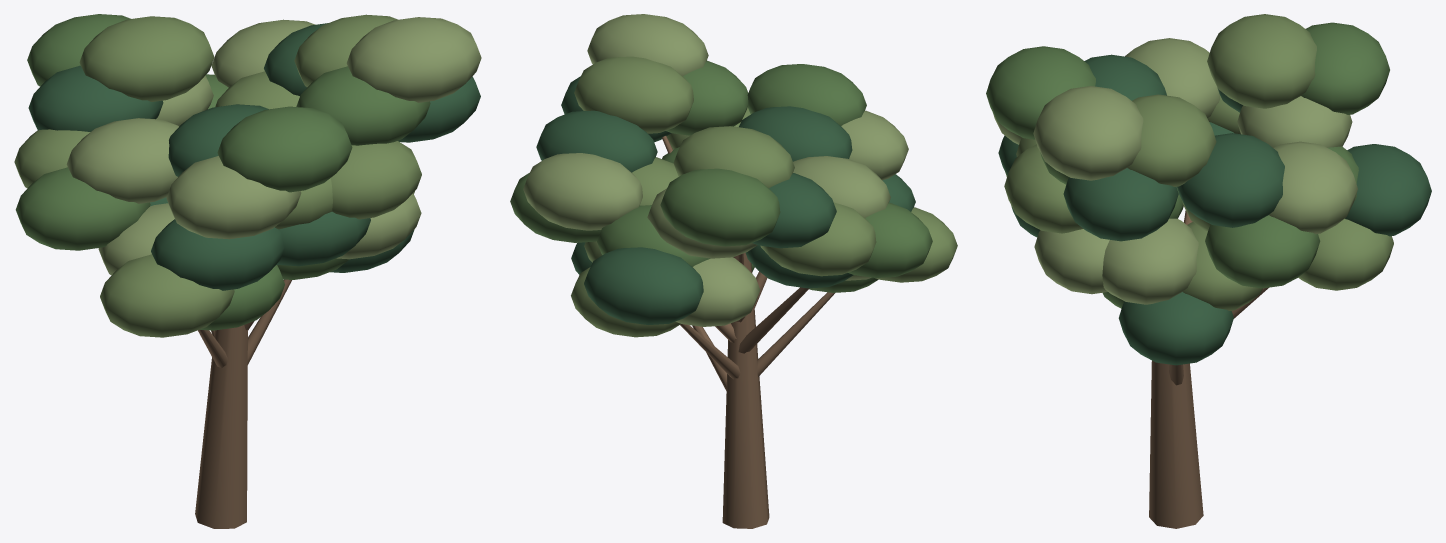
File: olive-tree.glb
3 renders of one model, left to right at view 1: azimuth 30°, elevation 25°; view 2: azimuth 150°, elevation 25°; view 3: azimuth 270°, elevation 25°, orthographic. The views are drawn at different scales.
Visible parts, largest first — view 1: olive-tree; view 2: olive-tree; view 3: olive-tree.
Boxes of the visible parts, bbox=[...] form: olive-tree: bbox=[14, 14, 481, 528]; olive-tree: bbox=[510, 14, 957, 528]; olive-tree: bbox=[986, 14, 1431, 528].
Bounding box in the file's own units: 3.3 × 3.61 × 2.94.
